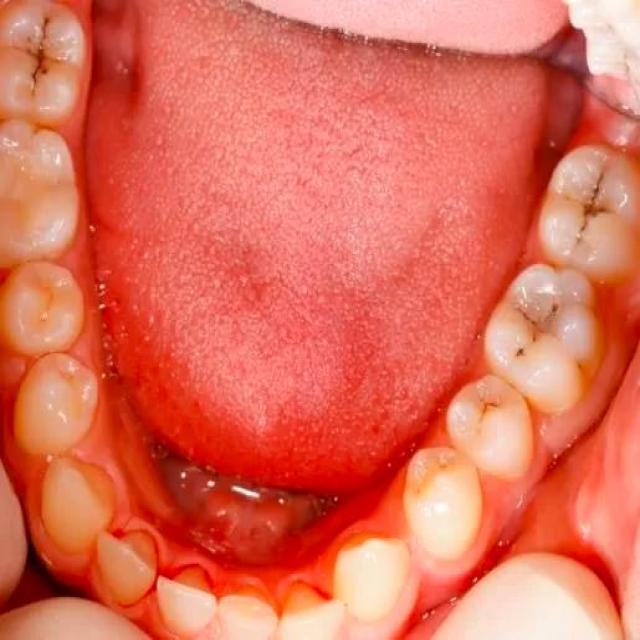1st Molar: (487, 265, 600, 415), (0, 122, 80, 264)
1st Premolar: (14, 354, 101, 456), (406, 451, 482, 563)
2nd Molar: (533, 142, 640, 273), (0, 0, 85, 125)
2nd Premolar: (444, 376, 537, 484), (3, 261, 86, 356)
Canine: (333, 537, 419, 640), (39, 456, 119, 561)
Central Incisor: (155, 565, 219, 640), (217, 578, 280, 640)
Lateral Incisor: (89, 522, 162, 612), (280, 580, 344, 640)
